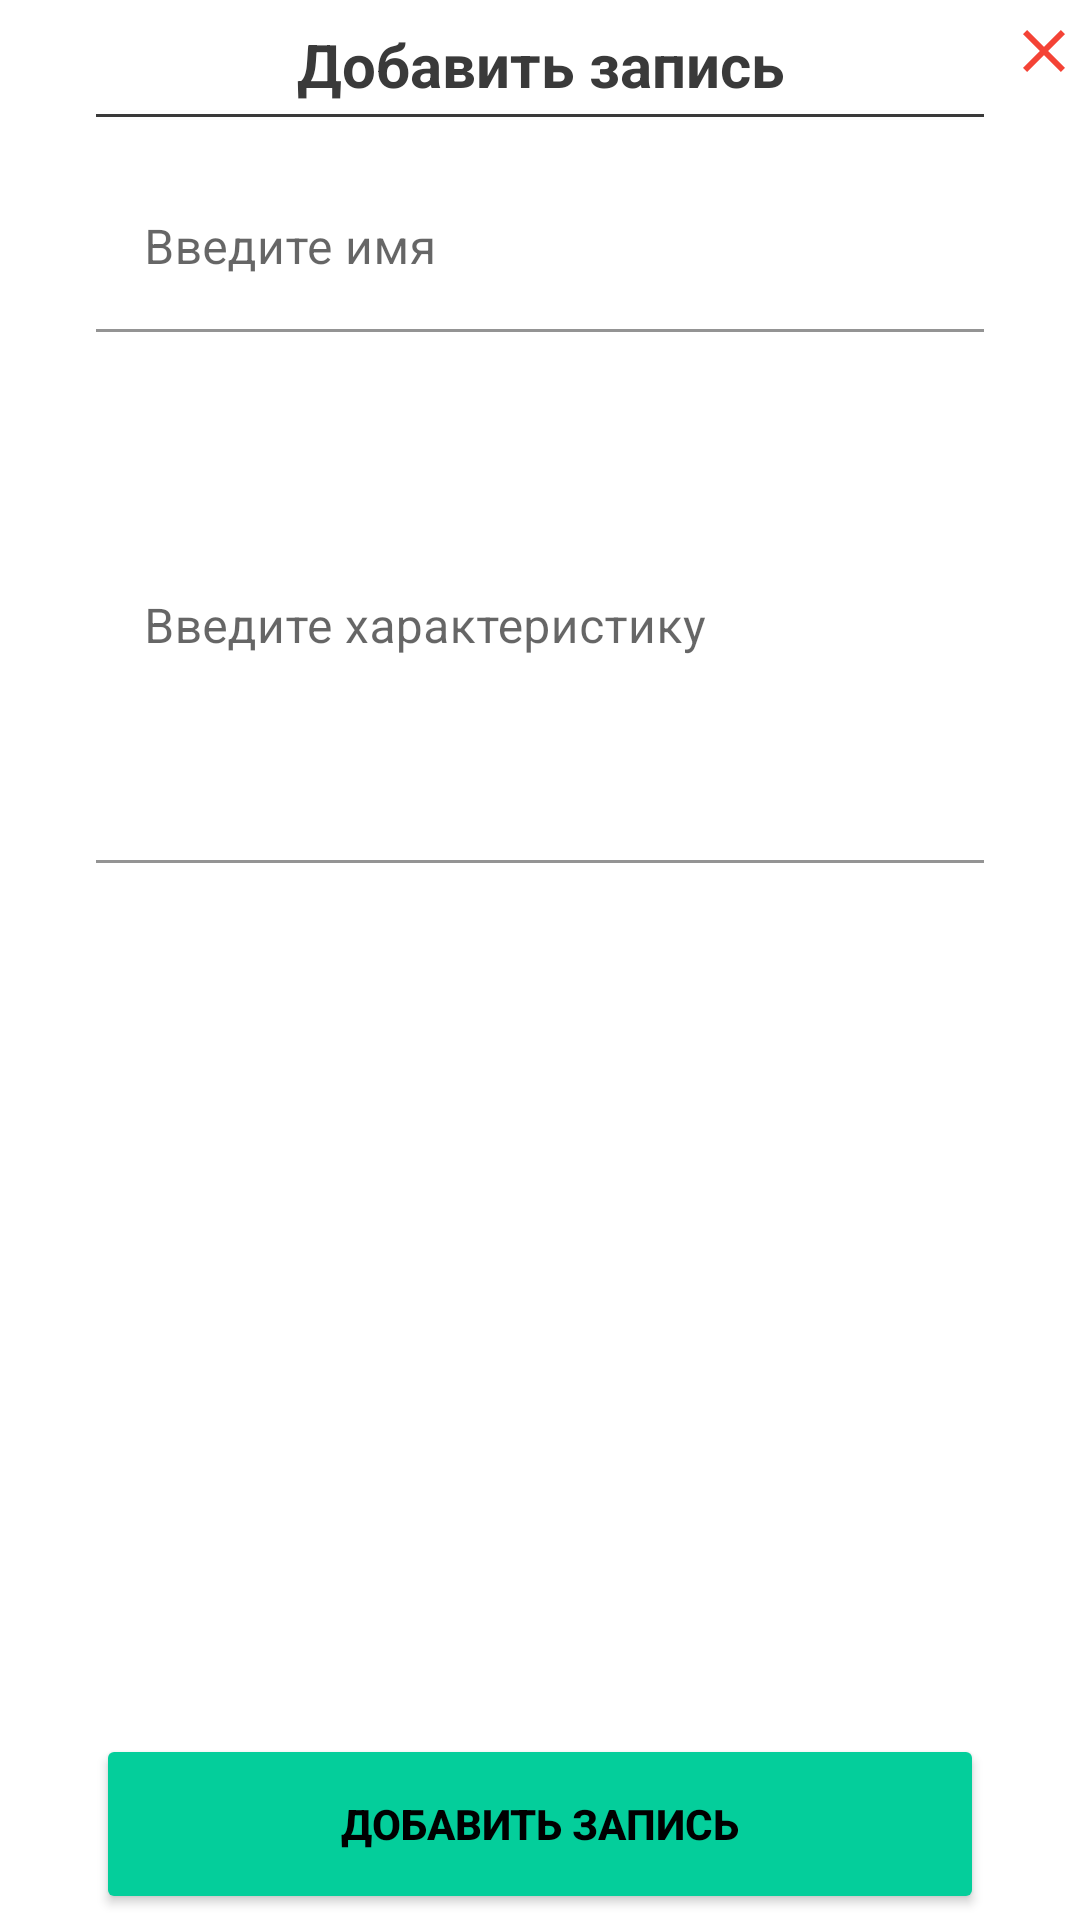

Where to tap for icons on this 1080w x 1920h app screen, as (x,y):
close: (1044,51)
